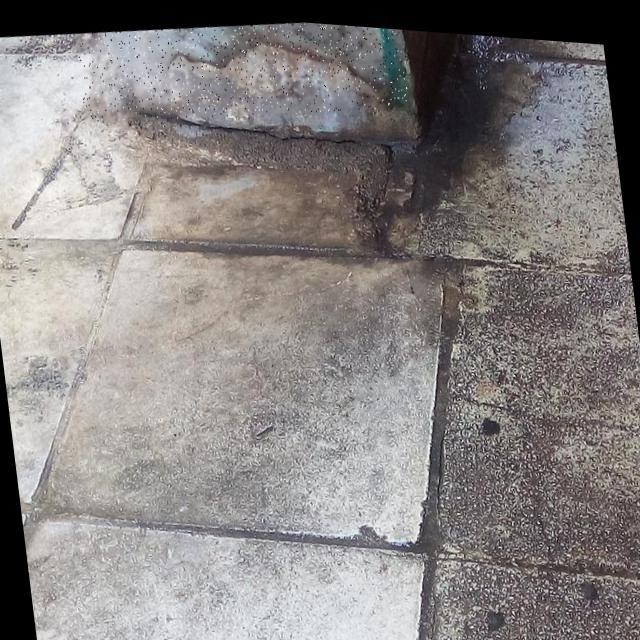-: (75, 5, 409, 140)
